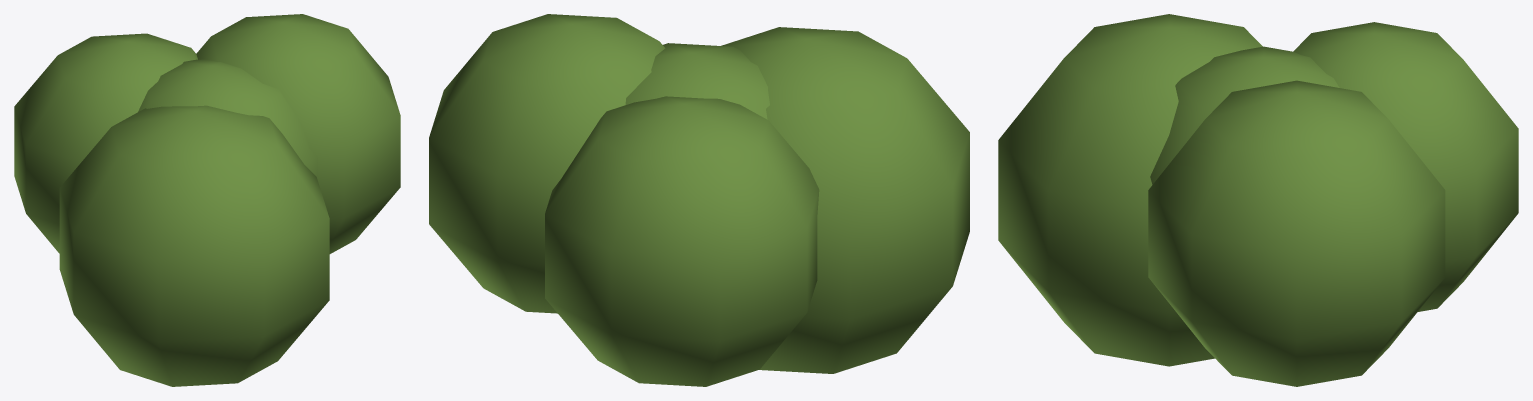
The model's file is prop_bush3_5150.glb.
3 views of the same model, side by side, from view 1: azimuth 30°, elevation 25°; view 2: azimuth 150°, elevation 25°; view 3: azimuth 270°, elevation 25° (orthographic). The views are drawn at different scales.
Parts seen in each view (by area): view 1: prop_bush3_5150; view 2: prop_bush3_5150; view 3: prop_bush3_5150.
Boxes of the visible parts, box(x1,y1,x2,y2) form: prop_bush3_5150: box(14, 14, 400, 386); prop_bush3_5150: box(429, 14, 969, 386); prop_bush3_5150: box(998, 14, 1518, 386).
Bounding box in the file's own units: 0.6478 × 0.4756 × 0.65.
1 material, 1 textured.
